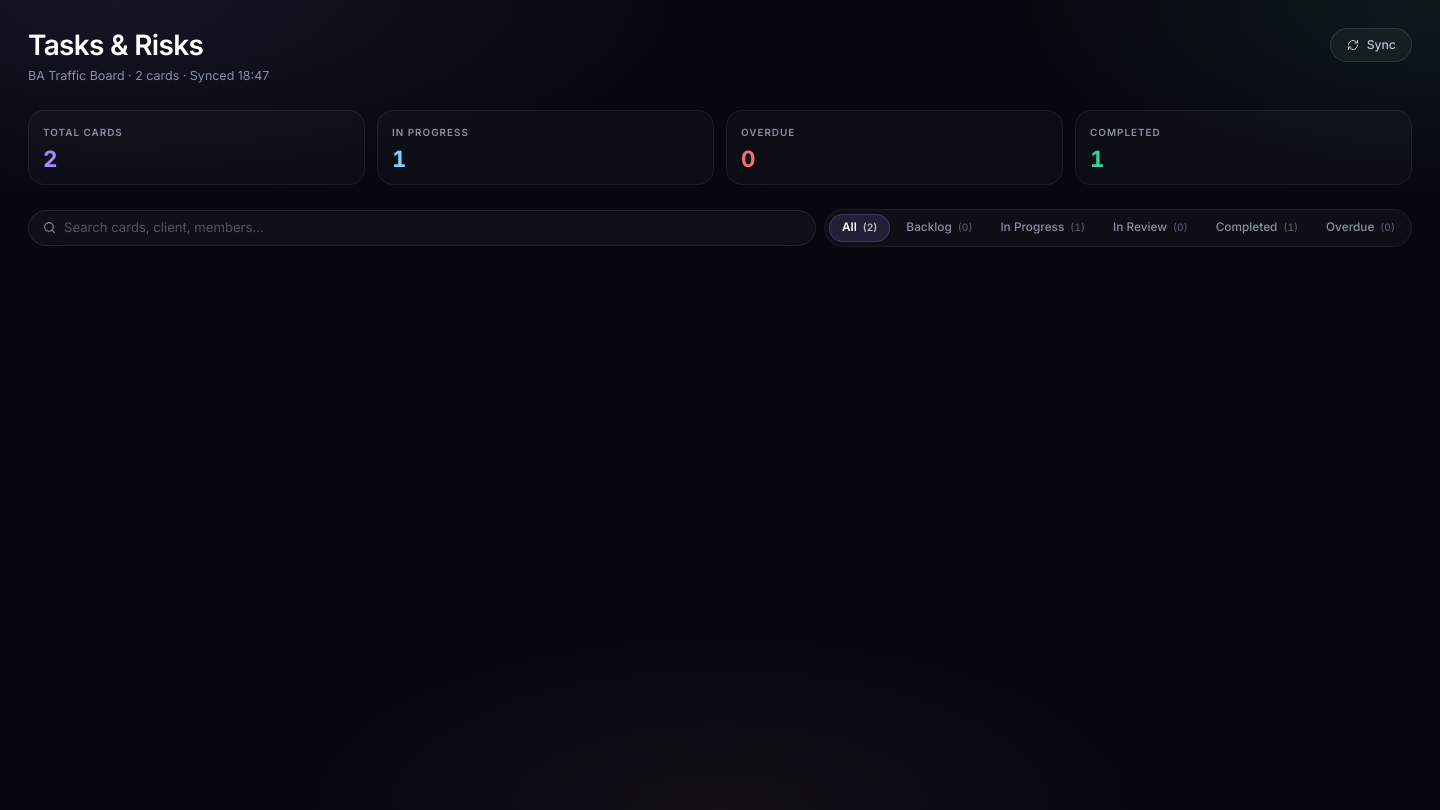
Test: Tasks – Filter tabs › filters to Completed cards
Click the button with class "tab-item" showing "Completed (1)" at (1257, 228), box [1204, 215, 1310, 241]
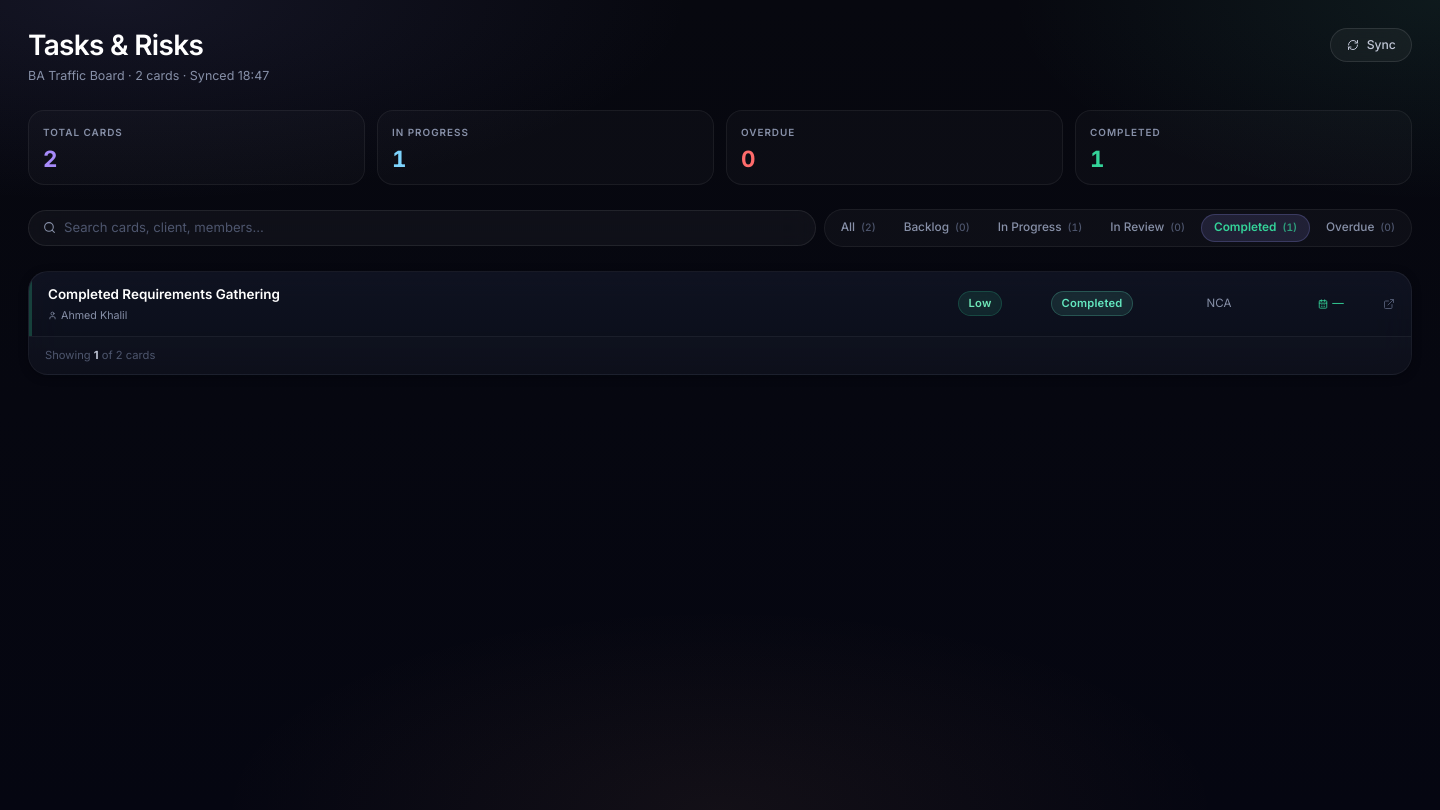
Result: the text "Completed Requirements Gathering" is shown at [48, 286, 280, 302]
